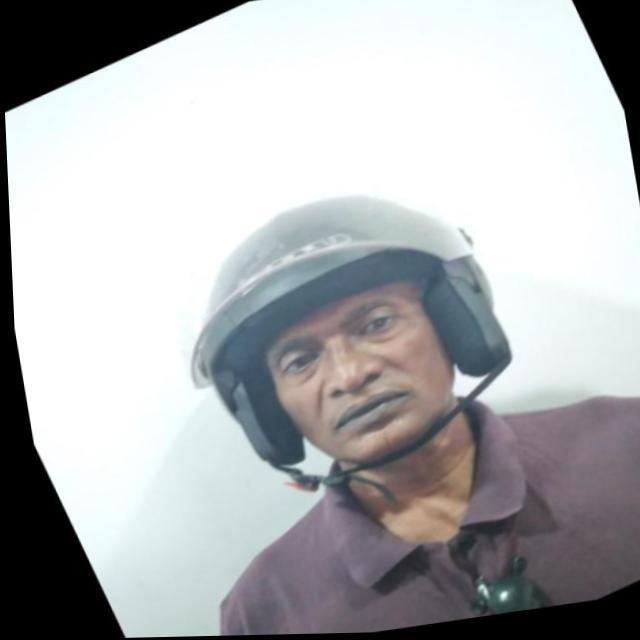with_helmet: (194, 196, 509, 458)
